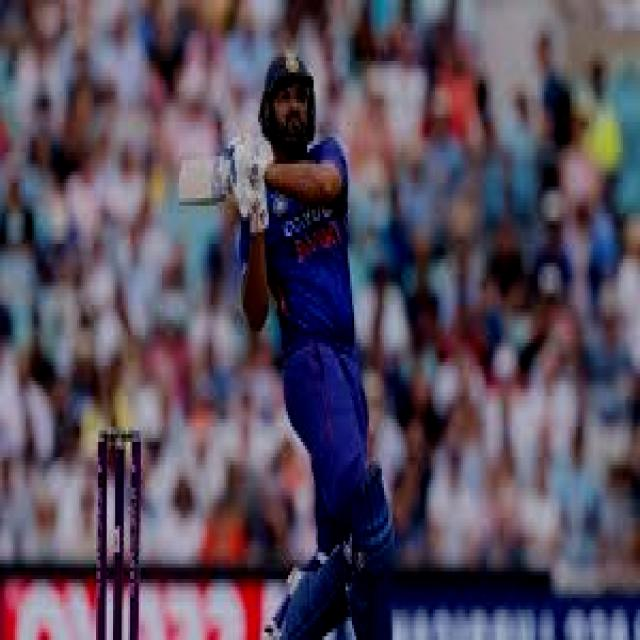toe: (176, 156, 186, 210)
